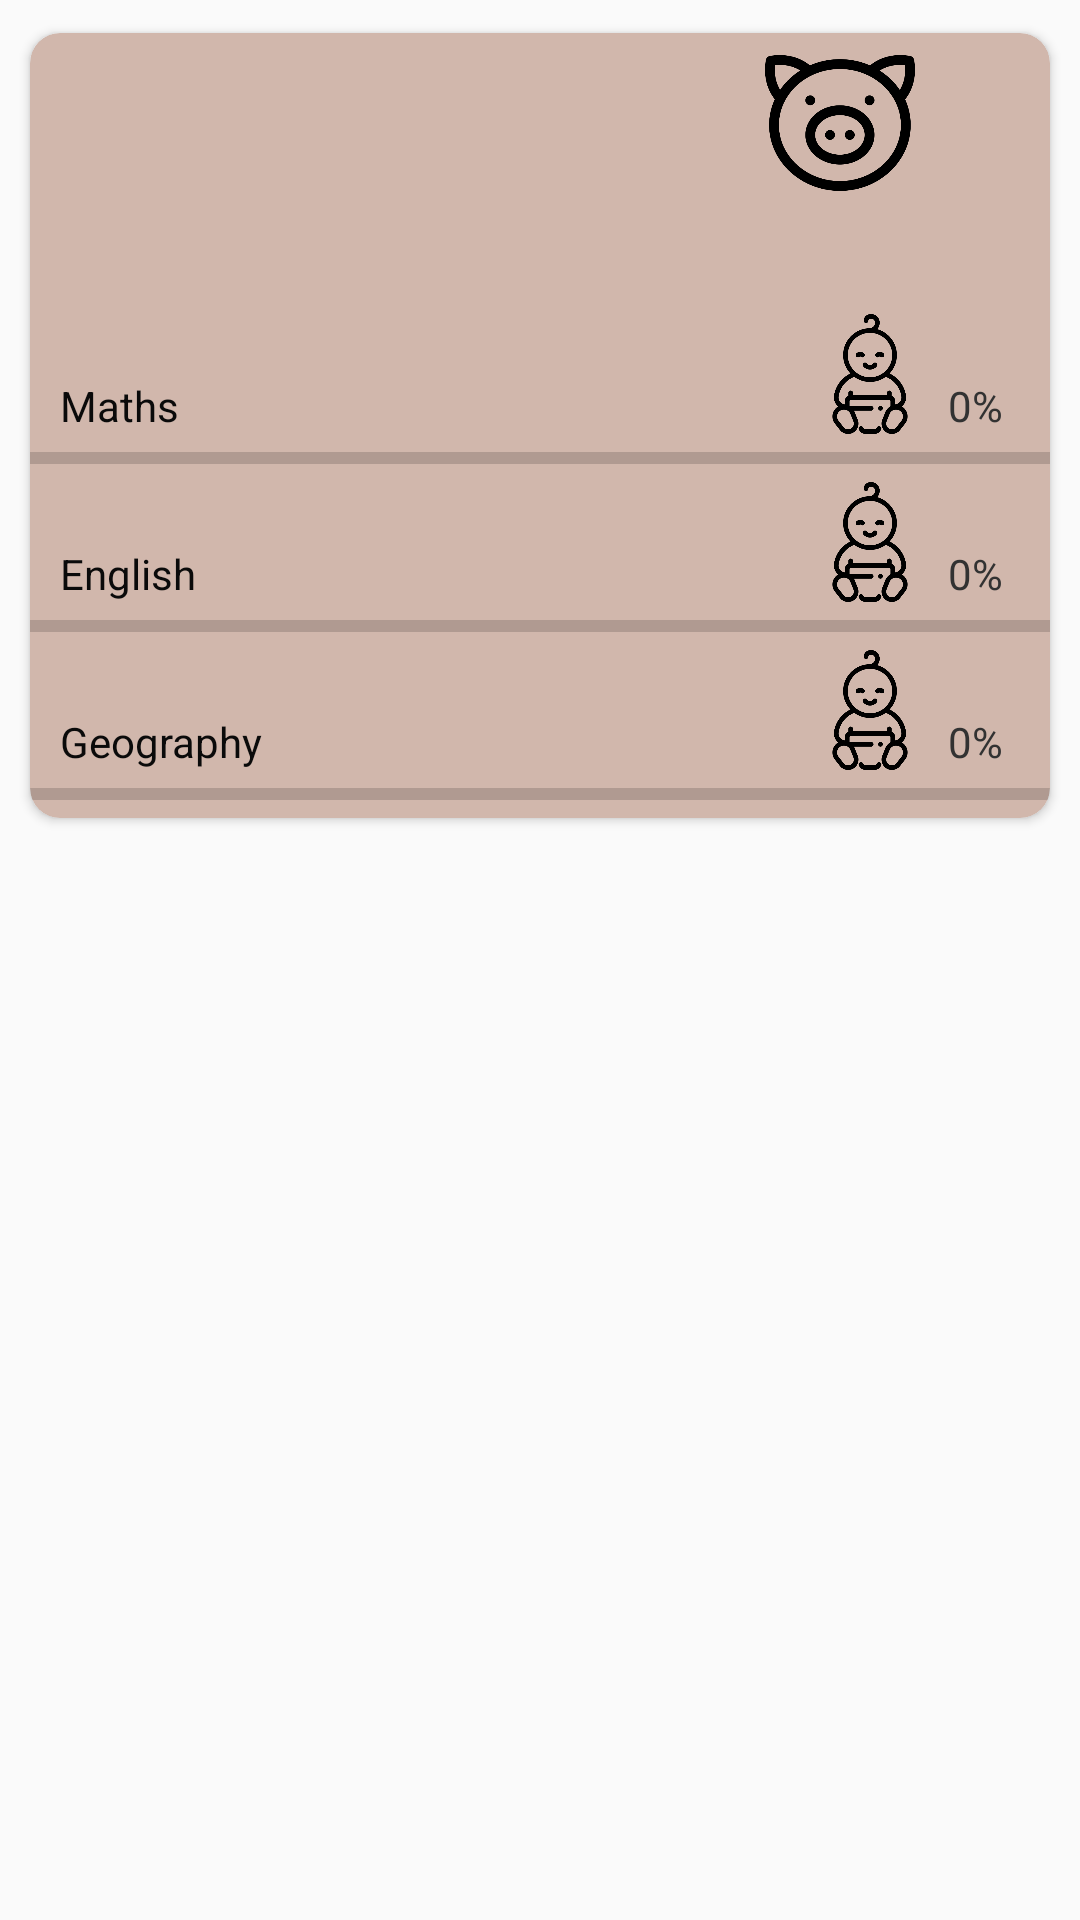

Where icons sit on this 1080 × 1920 app screen, as [x1=x1, y1=y1, x2=x2, y2=y2]:
child: [x1=832, y1=314, x2=908, y2=434], [x1=832, y1=482, x2=908, y2=602], [x1=832, y1=650, x2=908, y2=770]
pig: [x1=765, y1=55, x2=915, y2=191]
